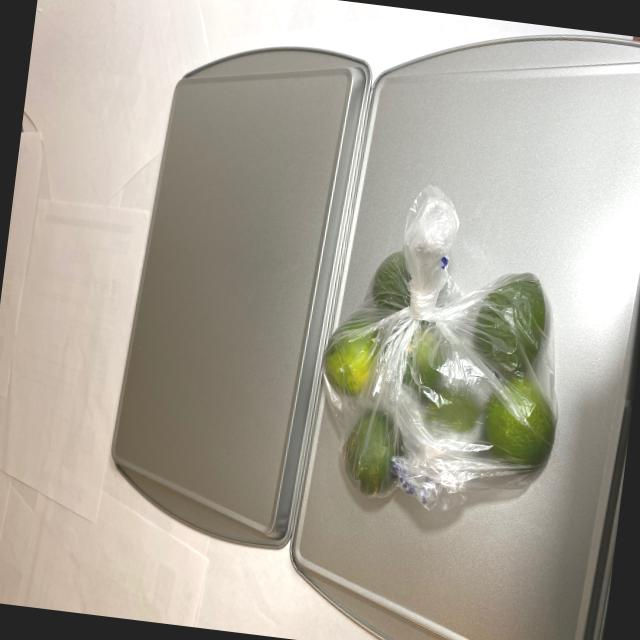lemon: (307, 230, 568, 528)
